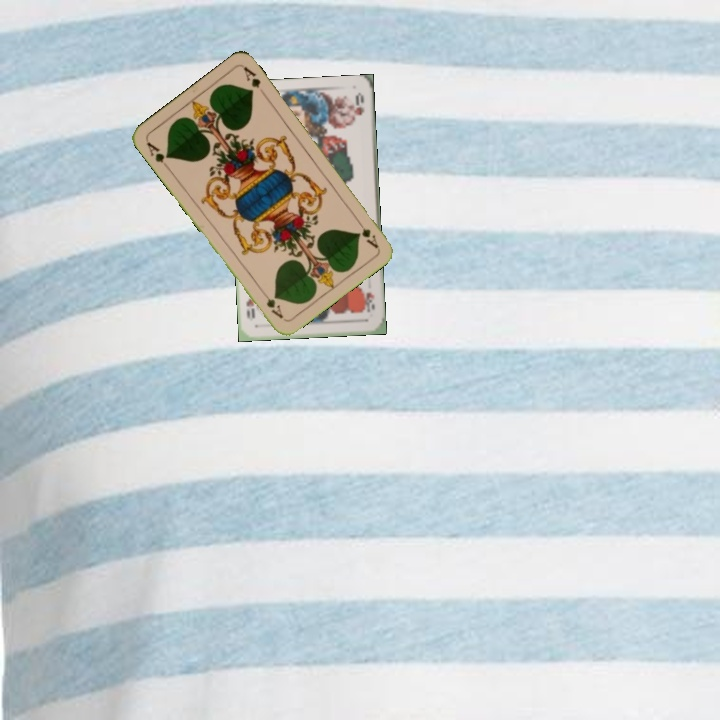GA: (352, 215, 381, 251), (143, 138, 172, 172)
HO: (361, 288, 377, 315)
